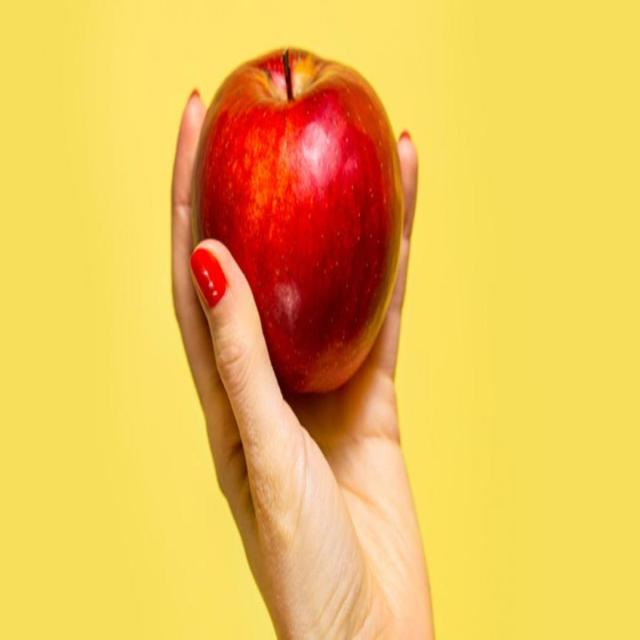manzana: (189, 40, 409, 401)
